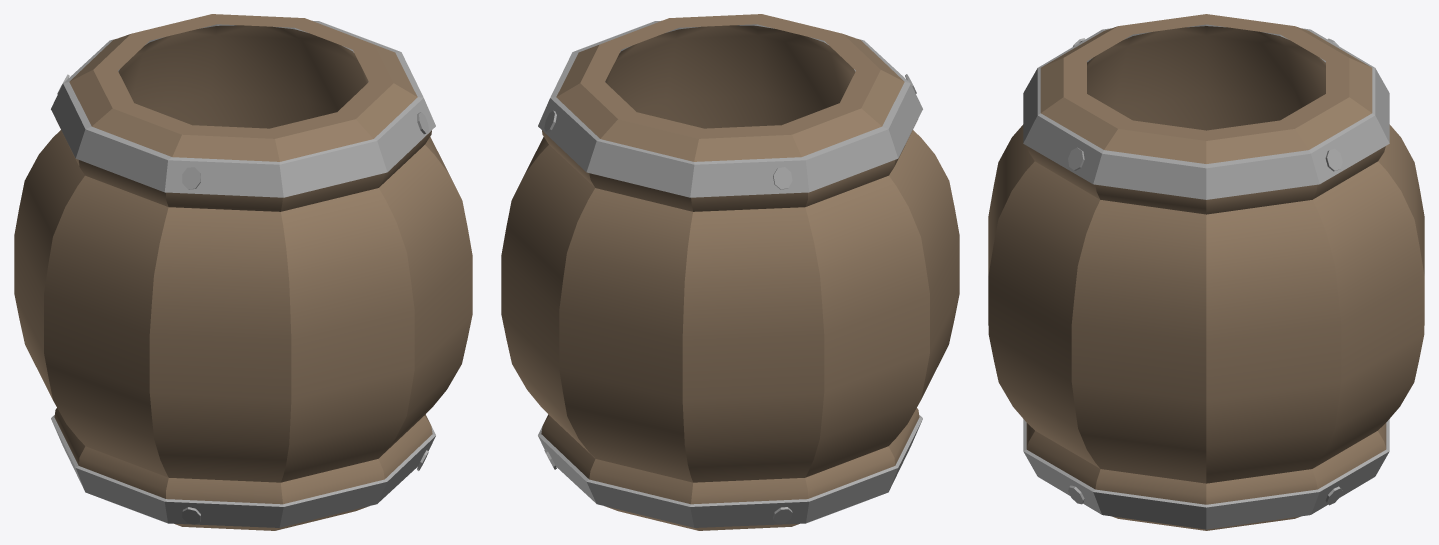
Rendered from small_barrel_02.fbx.
3 views of the same model, side by side, from view 1: azimuth 30°, elevation 25°; view 2: azimuth 150°, elevation 25°; view 3: azimuth 270°, elevation 25° (orthographic).
Parts seen in each view (by area): view 1: small_barrel_01; view 2: small_barrel_01; view 3: small_barrel_01.
Part boxes in pixels (bbox=[...]): small_barrel_01: bbox=[14, 14, 472, 530]; small_barrel_01: bbox=[501, 14, 959, 530]; small_barrel_01: bbox=[988, 14, 1424, 530].
Size of the model in its own units: 154 by 145 by 147.
